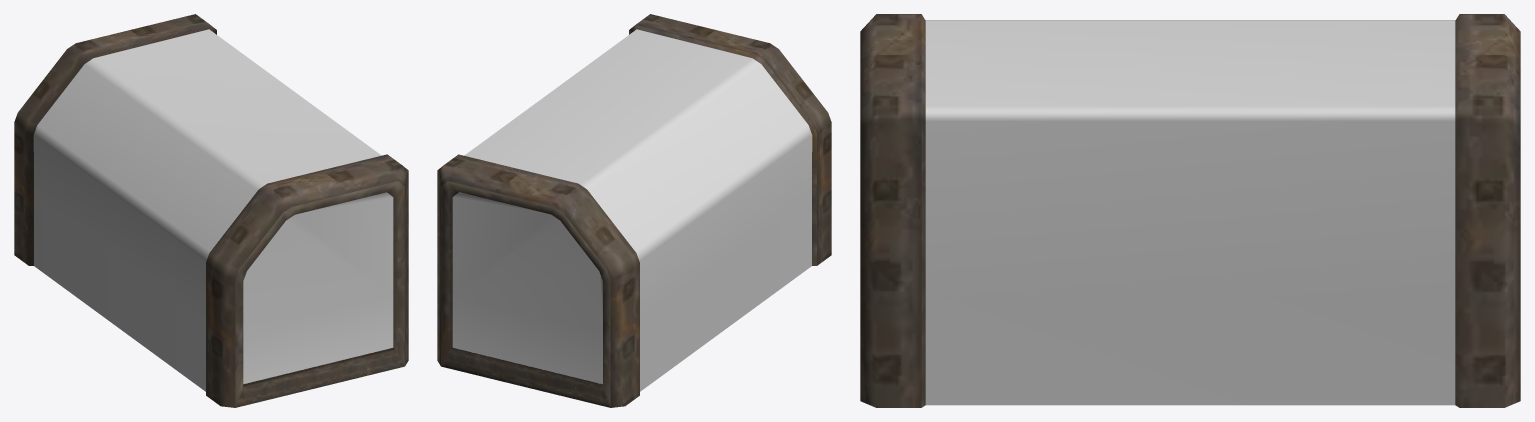
3 renders of one model, left to right at view 1: azimuth 30°, elevation 25°; view 2: azimuth 150°, elevation 25°; view 3: azimuth 270°, elevation 25°, orthographic. The views are drawn at different scales.
Parts seen in each view (by area): view 1: SM_Dowdun_Walkway_Battlements_8x8_04_LOD0; view 2: SM_Dowdun_Walkway_Battlements_8x8_04_LOD0; view 3: SM_Dowdun_Walkway_Battlements_8x8_04_LOD0.
Boxes of the visible parts, box(x1,y1,x2,y2) form: SM_Dowdun_Walkway_Battlements_8x8_04_LOD0: box(14, 14, 408, 407); SM_Dowdun_Walkway_Battlements_8x8_04_LOD0: box(437, 14, 831, 407); SM_Dowdun_Walkway_Battlements_8x8_04_LOD0: box(860, 14, 1520, 407).
Size of the model in its own units: 1 by 1 by 2.
2 materials, 1 textured.
